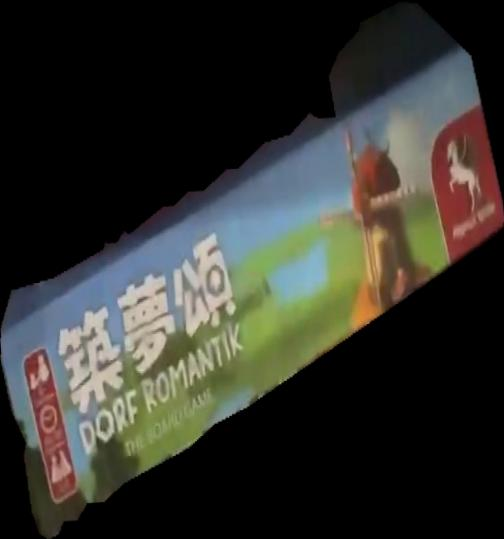flat: (1, 1, 504, 539)
